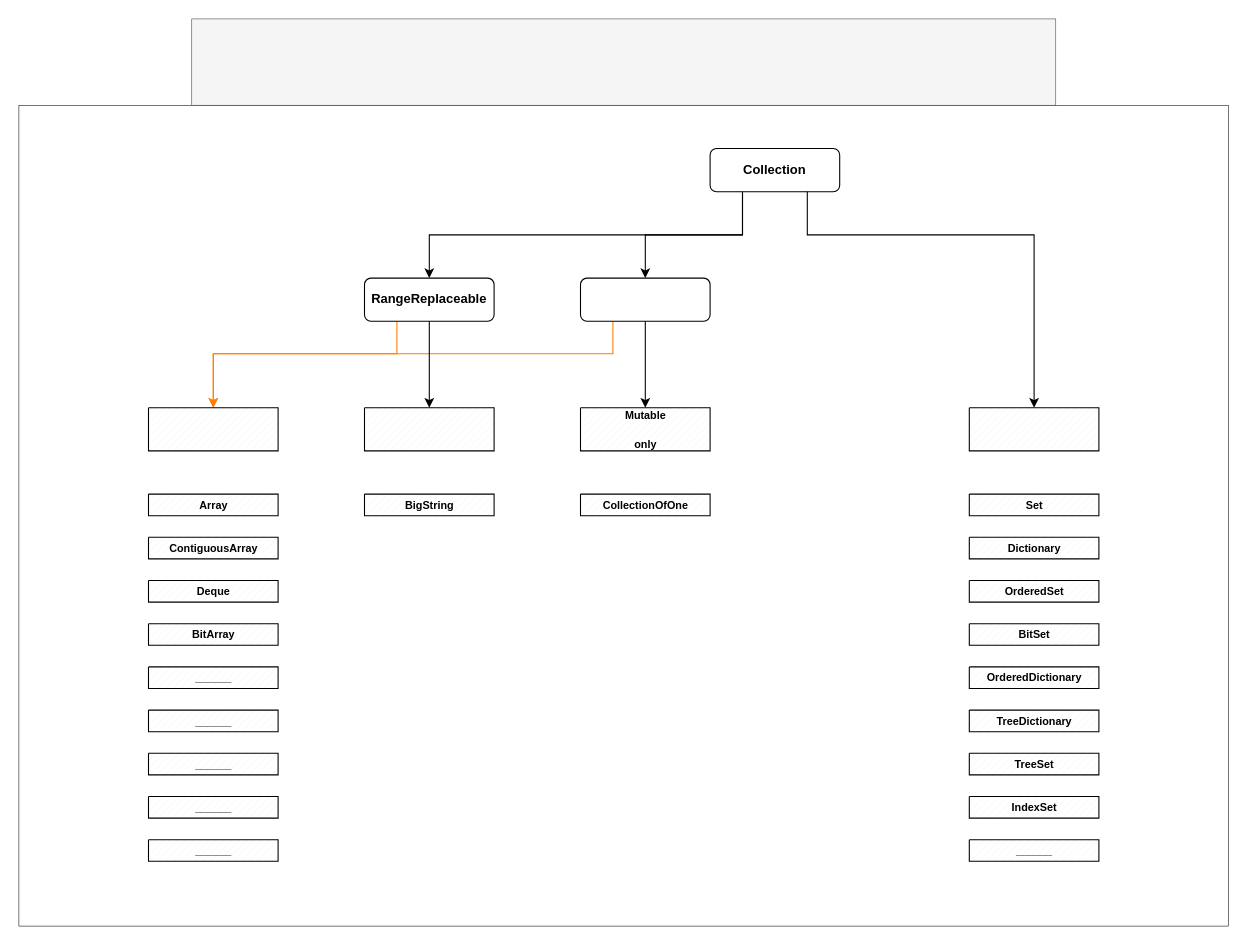
Some shapes in this 1247 by 945 pixel diagram are drawn without their labels. The box of each missing label's shape, as (x1, y1, x2, y2) in pixels:
Initializers Diagram In Typealiases.swift file protocols are listed: (191, 18, 1056, 105)
Mutable: (579, 277, 710, 321)
No way to init generically: (968, 407, 1099, 451)
RangeReplaceable + Mutable: (147, 407, 278, 451)
RangeReplaceable only: (363, 407, 494, 451)
